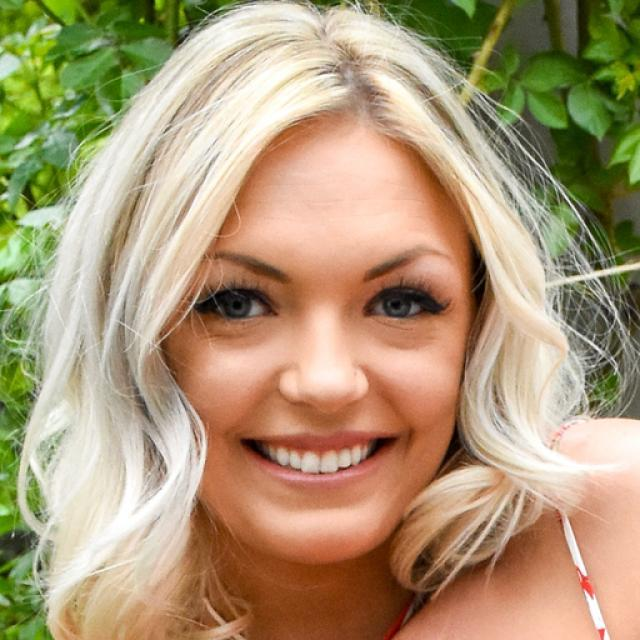happy: (165, 127, 470, 568)
